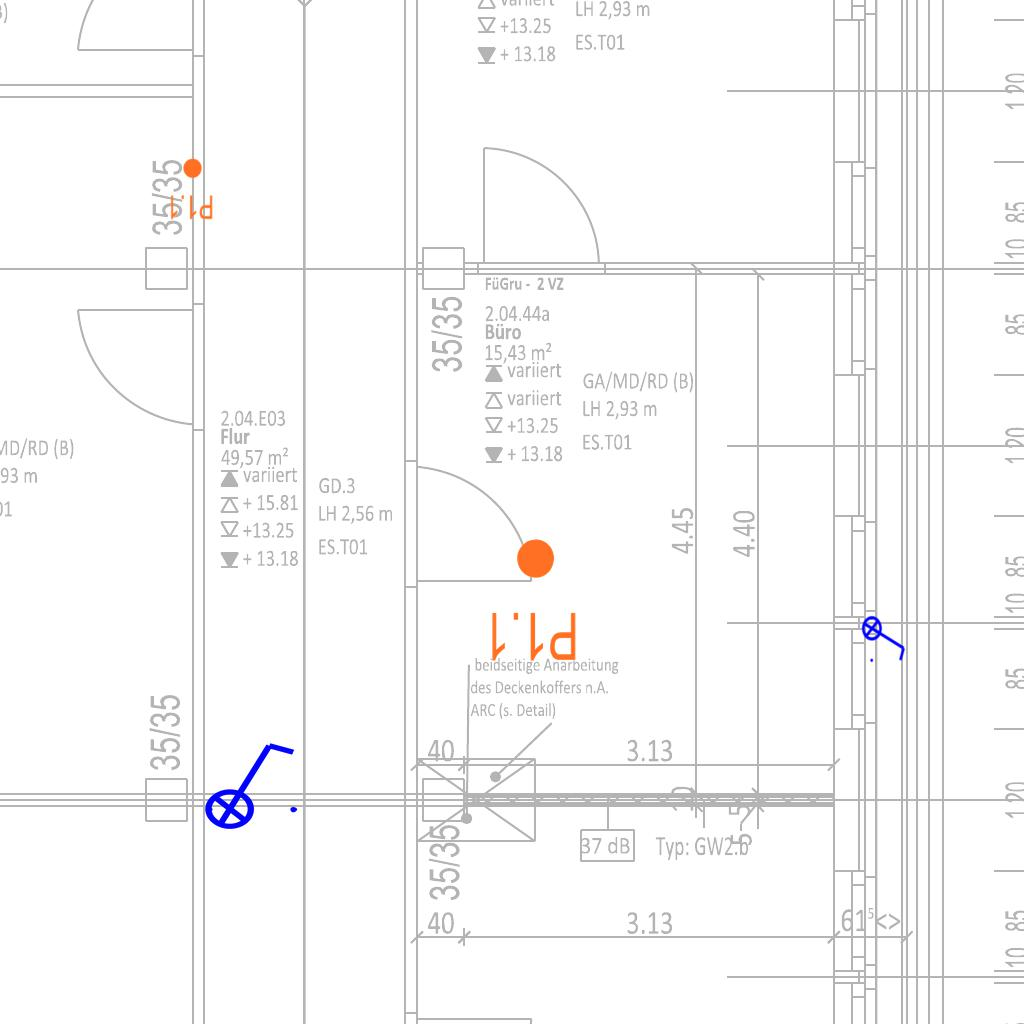Ausschalter_beleuchtet: (191, 735, 303, 831), (861, 609, 909, 665)
Downlight_LED_Einbauleuchten_Flur: (486, 536, 579, 664), (168, 157, 214, 221)
